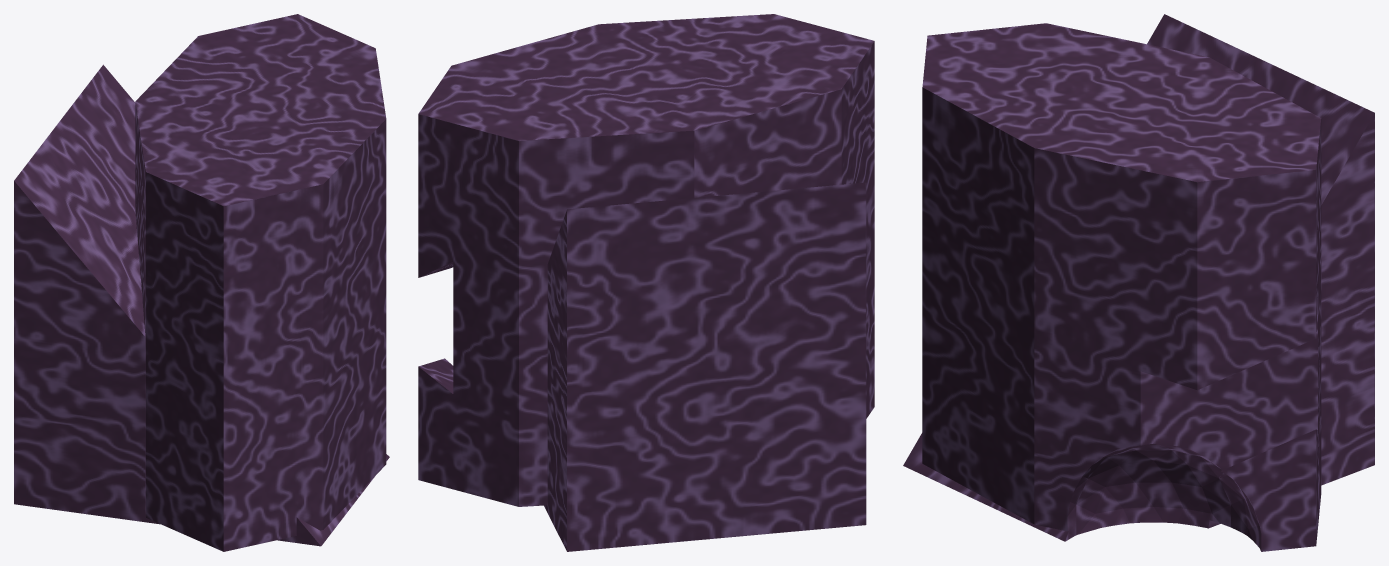
Rendered from tree.glb.
3 views of the same model, side by side, from view 1: azimuth 30°, elevation 25°; view 2: azimuth 150°, elevation 25°; view 3: azimuth 270°, elevation 25° (orthographic). The views are drawn at different scales.
Parts seen in each view (by area): view 1: geometry_0; view 2: geometry_0; view 3: geometry_0.
Part boxes in pixels (x1,y1,x2,y2): geometry_0: (14, 14, 389, 551); geometry_0: (418, 14, 874, 551); geometry_0: (903, 14, 1374, 551).
Size of the model in its own units: 1.68 by 1.5 by 1.67.
1 material, 1 textured.
